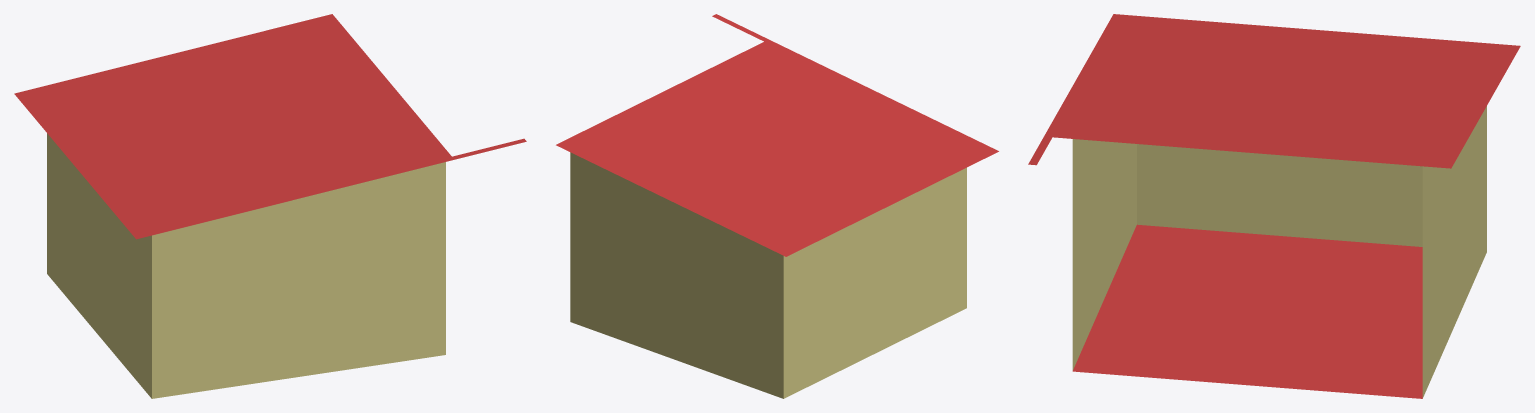
3 renders of one model, left to right at view 1: azimuth 30°, elevation 25°; view 2: azimuth 150°, elevation 25°; view 3: azimuth 270°, elevation 25°, orthographic. The views are drawn at different scales.
Bounding box in the file's own units: 11.93 × 12.69 × 6.84.
